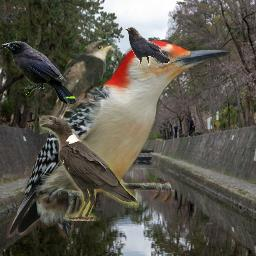Crow: (39, 115, 139, 221), (1, 41, 76, 105), (124, 27, 170, 67)
Cuckoo: (33, 39, 117, 137)
Woodpecker: (6, 40, 230, 239)
